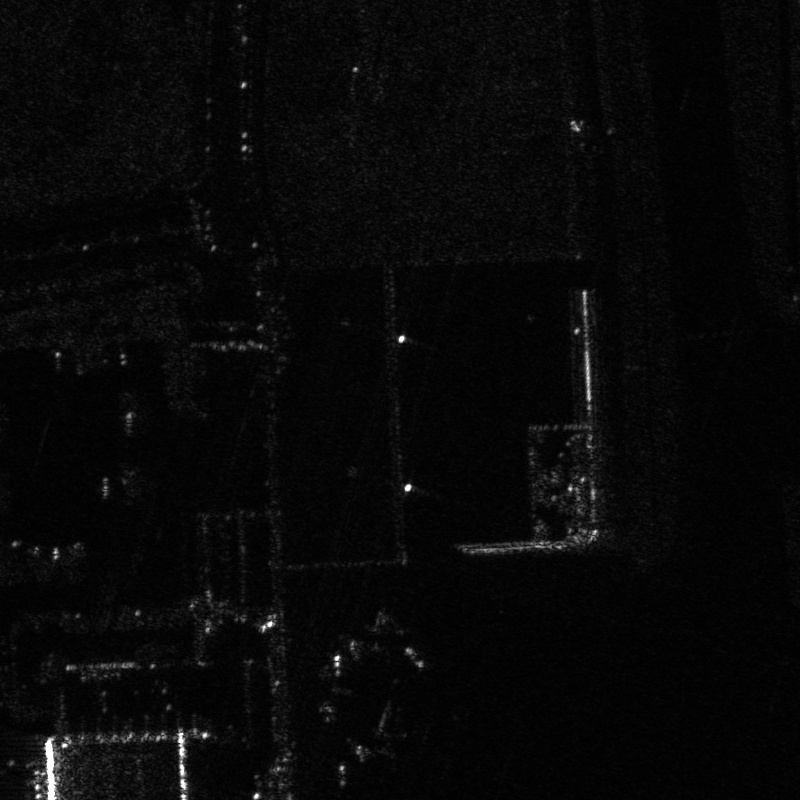A320/321: (351, 694, 419, 766)
